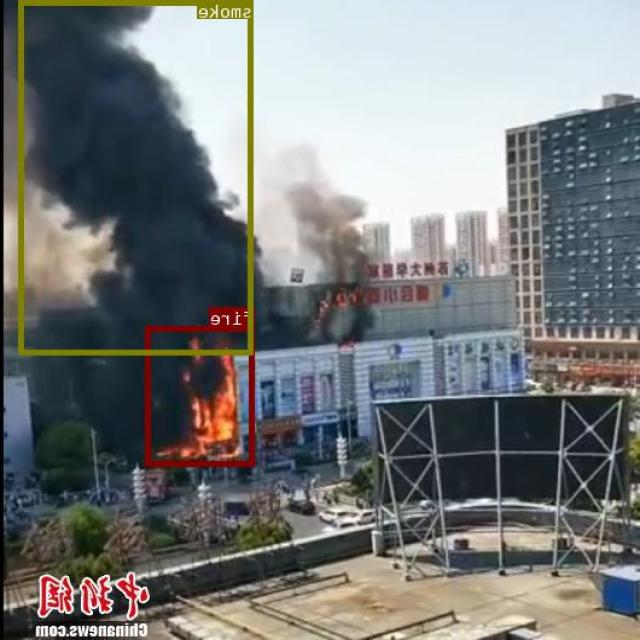fire: (147, 326, 255, 465)
smoke: (20, 0, 255, 353)
